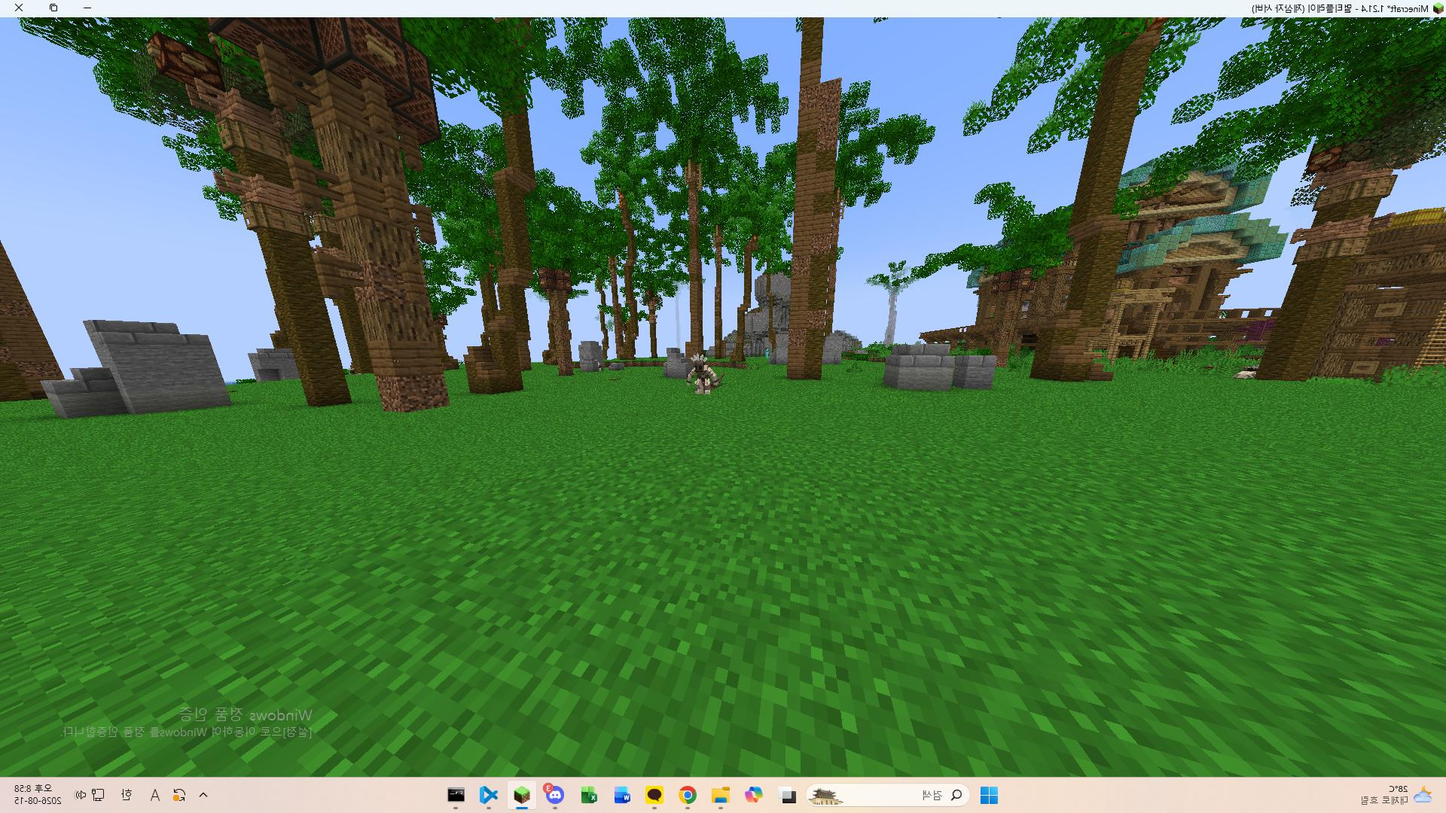bow_indian: (676, 354, 724, 412)
